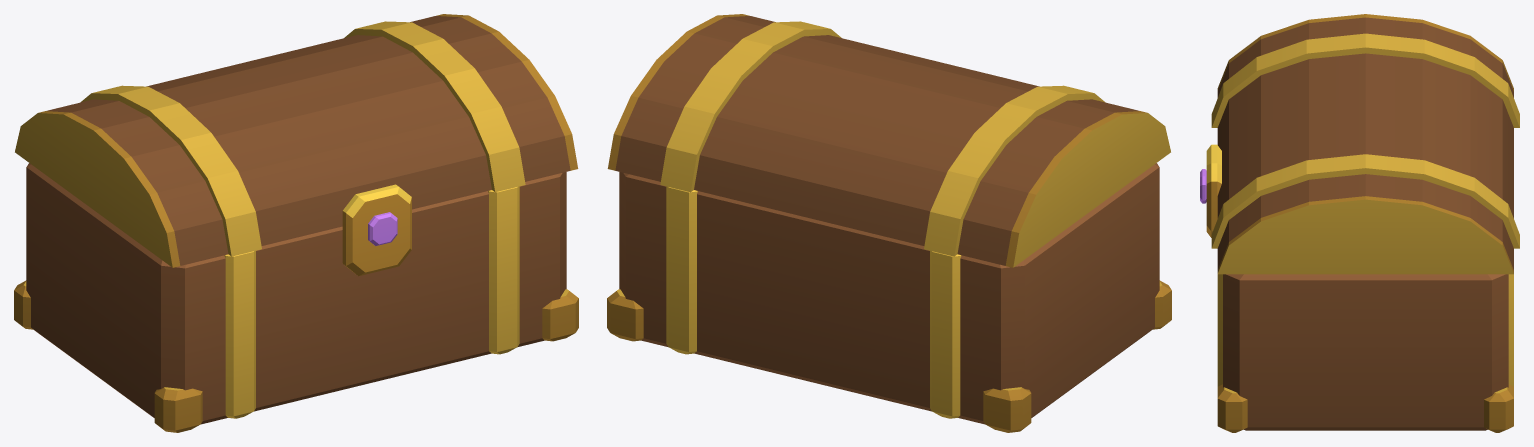
The model's file is SmallChest.fbx.
3 views of the same model, side by side, from view 1: azimuth 30°, elevation 25°; view 2: azimuth 150°, elevation 25°; view 3: azimuth 270°, elevation 25° (orthographic). The views are drawn at different scales.
Visible parts, largest first — view 1: Lid, Box, Bands, Lock, LockGlow; view 2: Lid, Box, Bands; view 3: Lid, Box, Bands, Lock.
Boxes of the visible parts, x1,y1,x2,y2 form: Lid: (15, 14, 578, 267); Box: (26, 163, 566, 424); Bands: (14, 186, 578, 432); Lock: (342, 184, 411, 276); LockGlow: (368, 212, 397, 245); Lid: (607, 14, 1170, 267); Box: (619, 163, 1159, 424); Bands: (607, 186, 1171, 432); Lid: (1211, 14, 1519, 274); Box: (1223, 274, 1508, 430); Bands: (1217, 274, 1513, 432); Lock: (1206, 144, 1221, 237).
Bounding box in the file's own units: 0.82 × 0.482 × 0.5828.
Materials: 2 (2 with a texture image).
